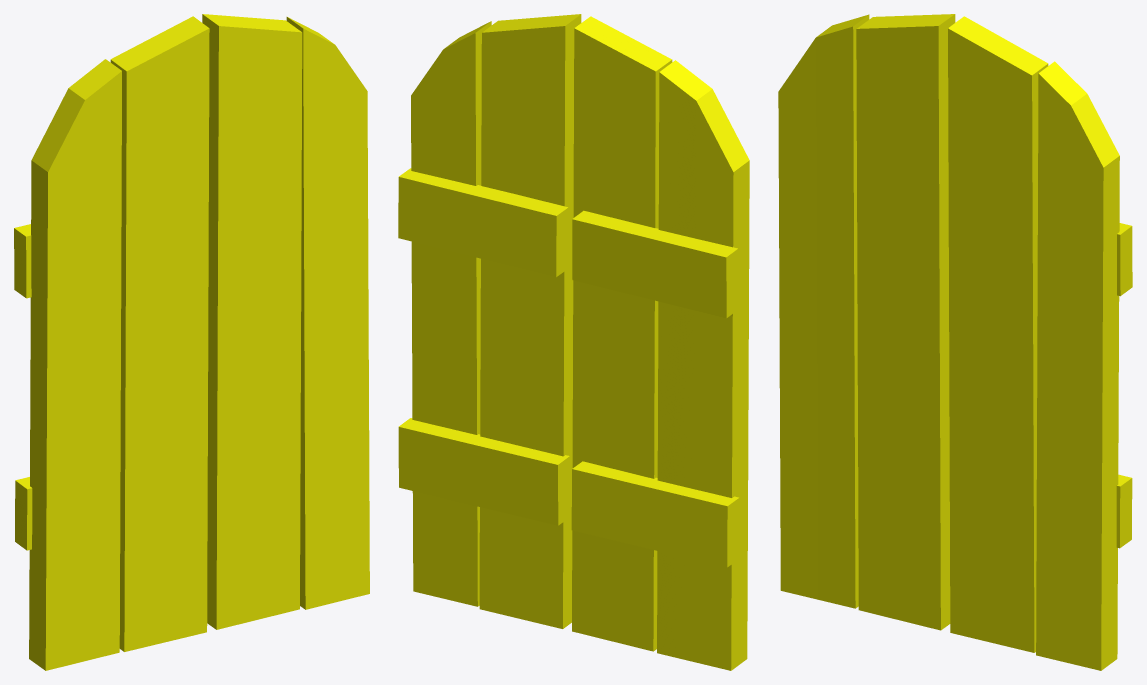
Rendered from windowshutters-thin-round-closed.glb.
3 renders of one model, left to right at view 1: azimuth 30°, elevation 25°; view 2: azimuth 150°, elevation 25°; view 3: azimuth 330°, elevation 25°, orthographic.
Visible parts, largest first — view 1: WindowShutters_Thin_Round_Closed; view 2: WindowShutters_Thin_Round_Closed; view 3: WindowShutters_Thin_Round_Closed.
Boxes of the visible parts, x1,y1,x2,y2 form: WindowShutters_Thin_Round_Closed: (14,14,369,670); WindowShutters_Thin_Round_Closed: (398,14,749,670); WindowShutters_Thin_Round_Closed: (778,14,1132,670).
Size of the model in its own units: 0.8674 by 1.52 by 0.1358.
1 material, 1 textured.
